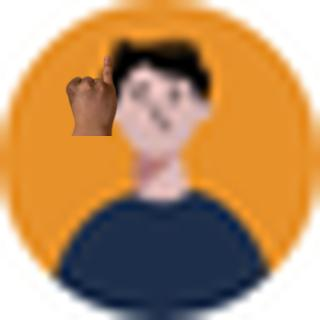FINE: (65, 54, 123, 130)
